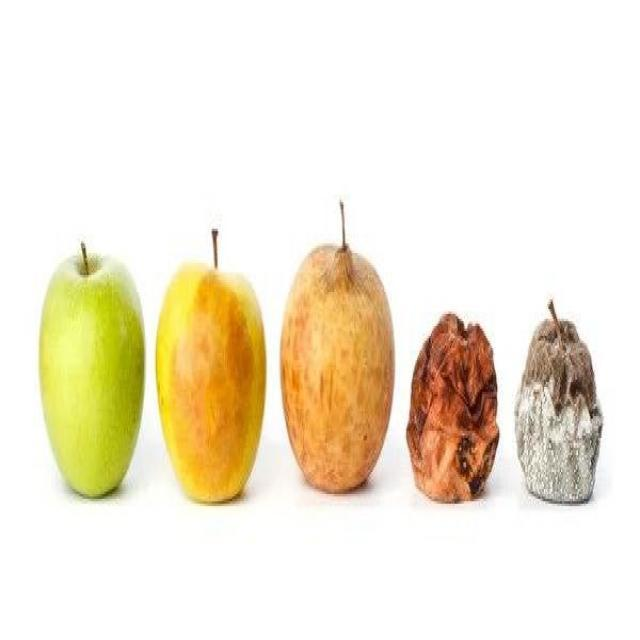Fresh Apple: (28, 260, 140, 508)
Rotten: (280, 240, 396, 504), (154, 258, 270, 496), (504, 314, 612, 500), (414, 316, 496, 494)
